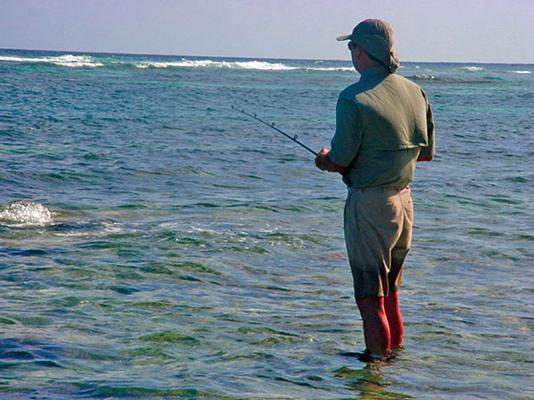person: (315, 19, 437, 352)
